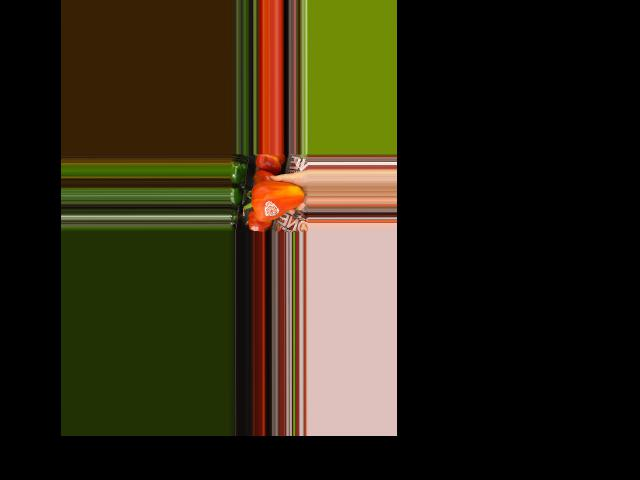bell_pepper: (242, 176, 303, 223)
